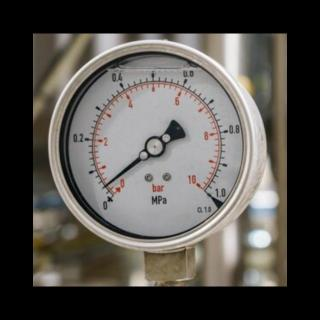gauge: (34, 34, 286, 260), (96, 175, 128, 213), (185, 173, 218, 207), (145, 136, 165, 156), (99, 181, 111, 191)
